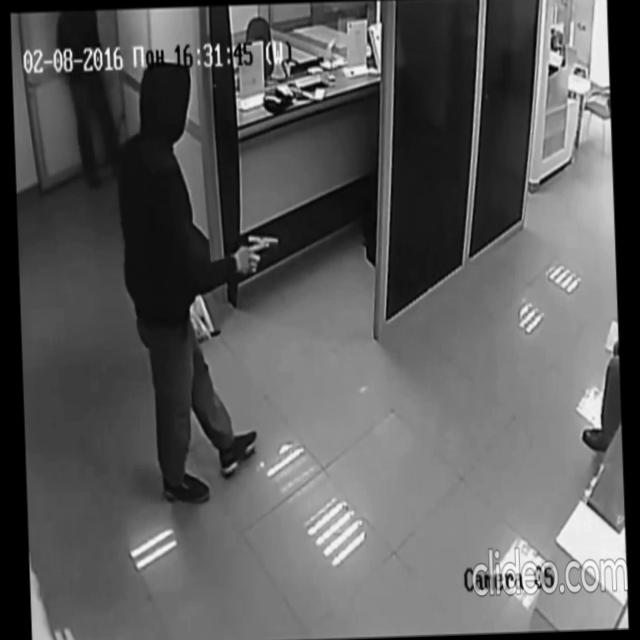gun: (238, 230, 280, 285)
person with a gun: (110, 54, 288, 508)
